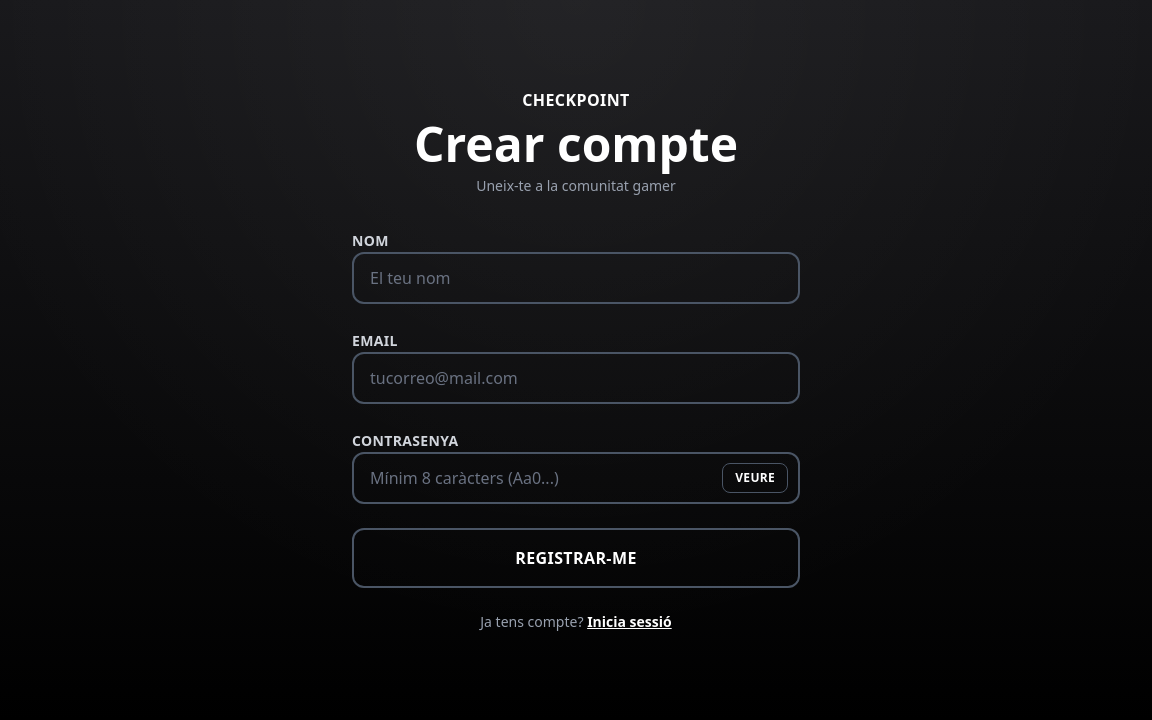
Scenario: Register.vue › toggles password visibility
Click the button "Veure" at [755, 478], box [722,463,788,493]
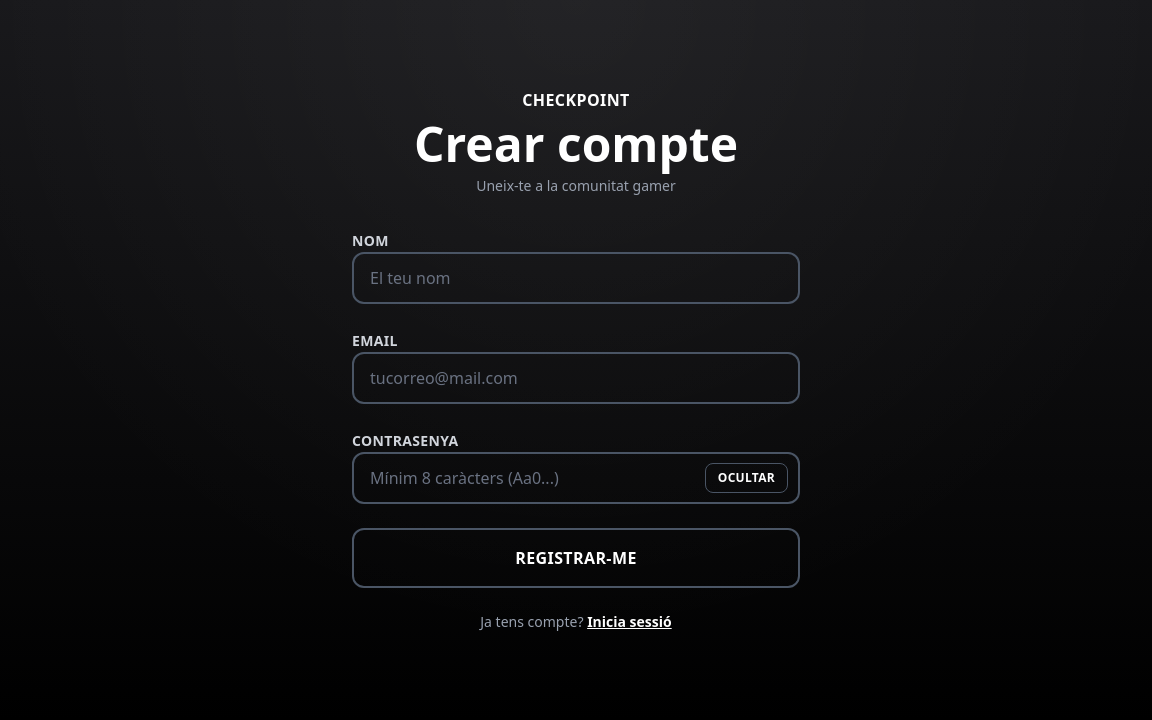
Result: the button "Ocultar" is shown at [705,463,788,493]
